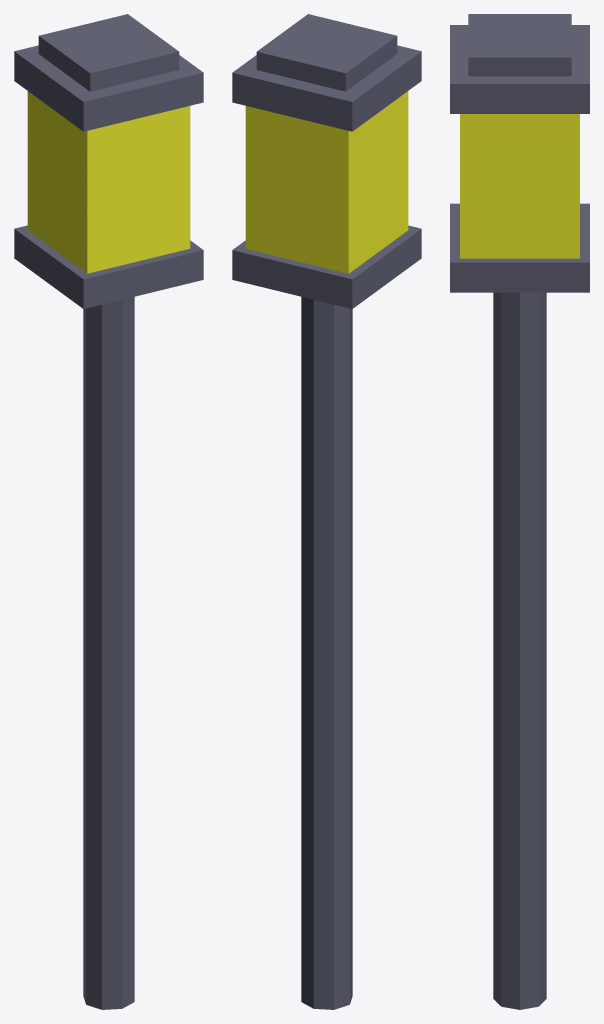
Rendered from lamp.fbx.
The picture shows the model from 3 angles, left to right: view 1: azimuth 30°, elevation 25°; view 2: azimuth 150°, elevation 25°; view 3: azimuth 270°, elevation 25°; orthographic projection.
Parts seen in each view (by area): view 1: Cylinder, Cube, Cube.002, Cube.003, Cube.001; view 2: Cylinder, Cube, Cube.002, Cube.003, Cube.001; view 3: Cylinder, Cube, Cube.002, Cube.003, Cube.001.
Boxes of the visible parts, x1,y1,x2,y2 form: Cylinder: (83, 297, 134, 1009); Cube: (27, 91, 190, 273); Cube.002: (14, 45, 203, 131); Cube.003: (38, 14, 179, 91); Cube.001: (14, 225, 203, 308); Cylinder: (301, 297, 352, 1009); Cube: (245, 91, 408, 273); Cube.002: (232, 45, 421, 131); Cube.003: (256, 14, 397, 91); Cube.001: (232, 225, 421, 308); Cylinder: (493, 292, 546, 1009); Cube: (460, 114, 579, 258); Cube.002: (450, 25, 589, 113); Cube.003: (468, 14, 571, 76); Cube.001: (450, 203, 589, 292).
Size of the model in its own units: 41.92 by 319 by 41.92.
